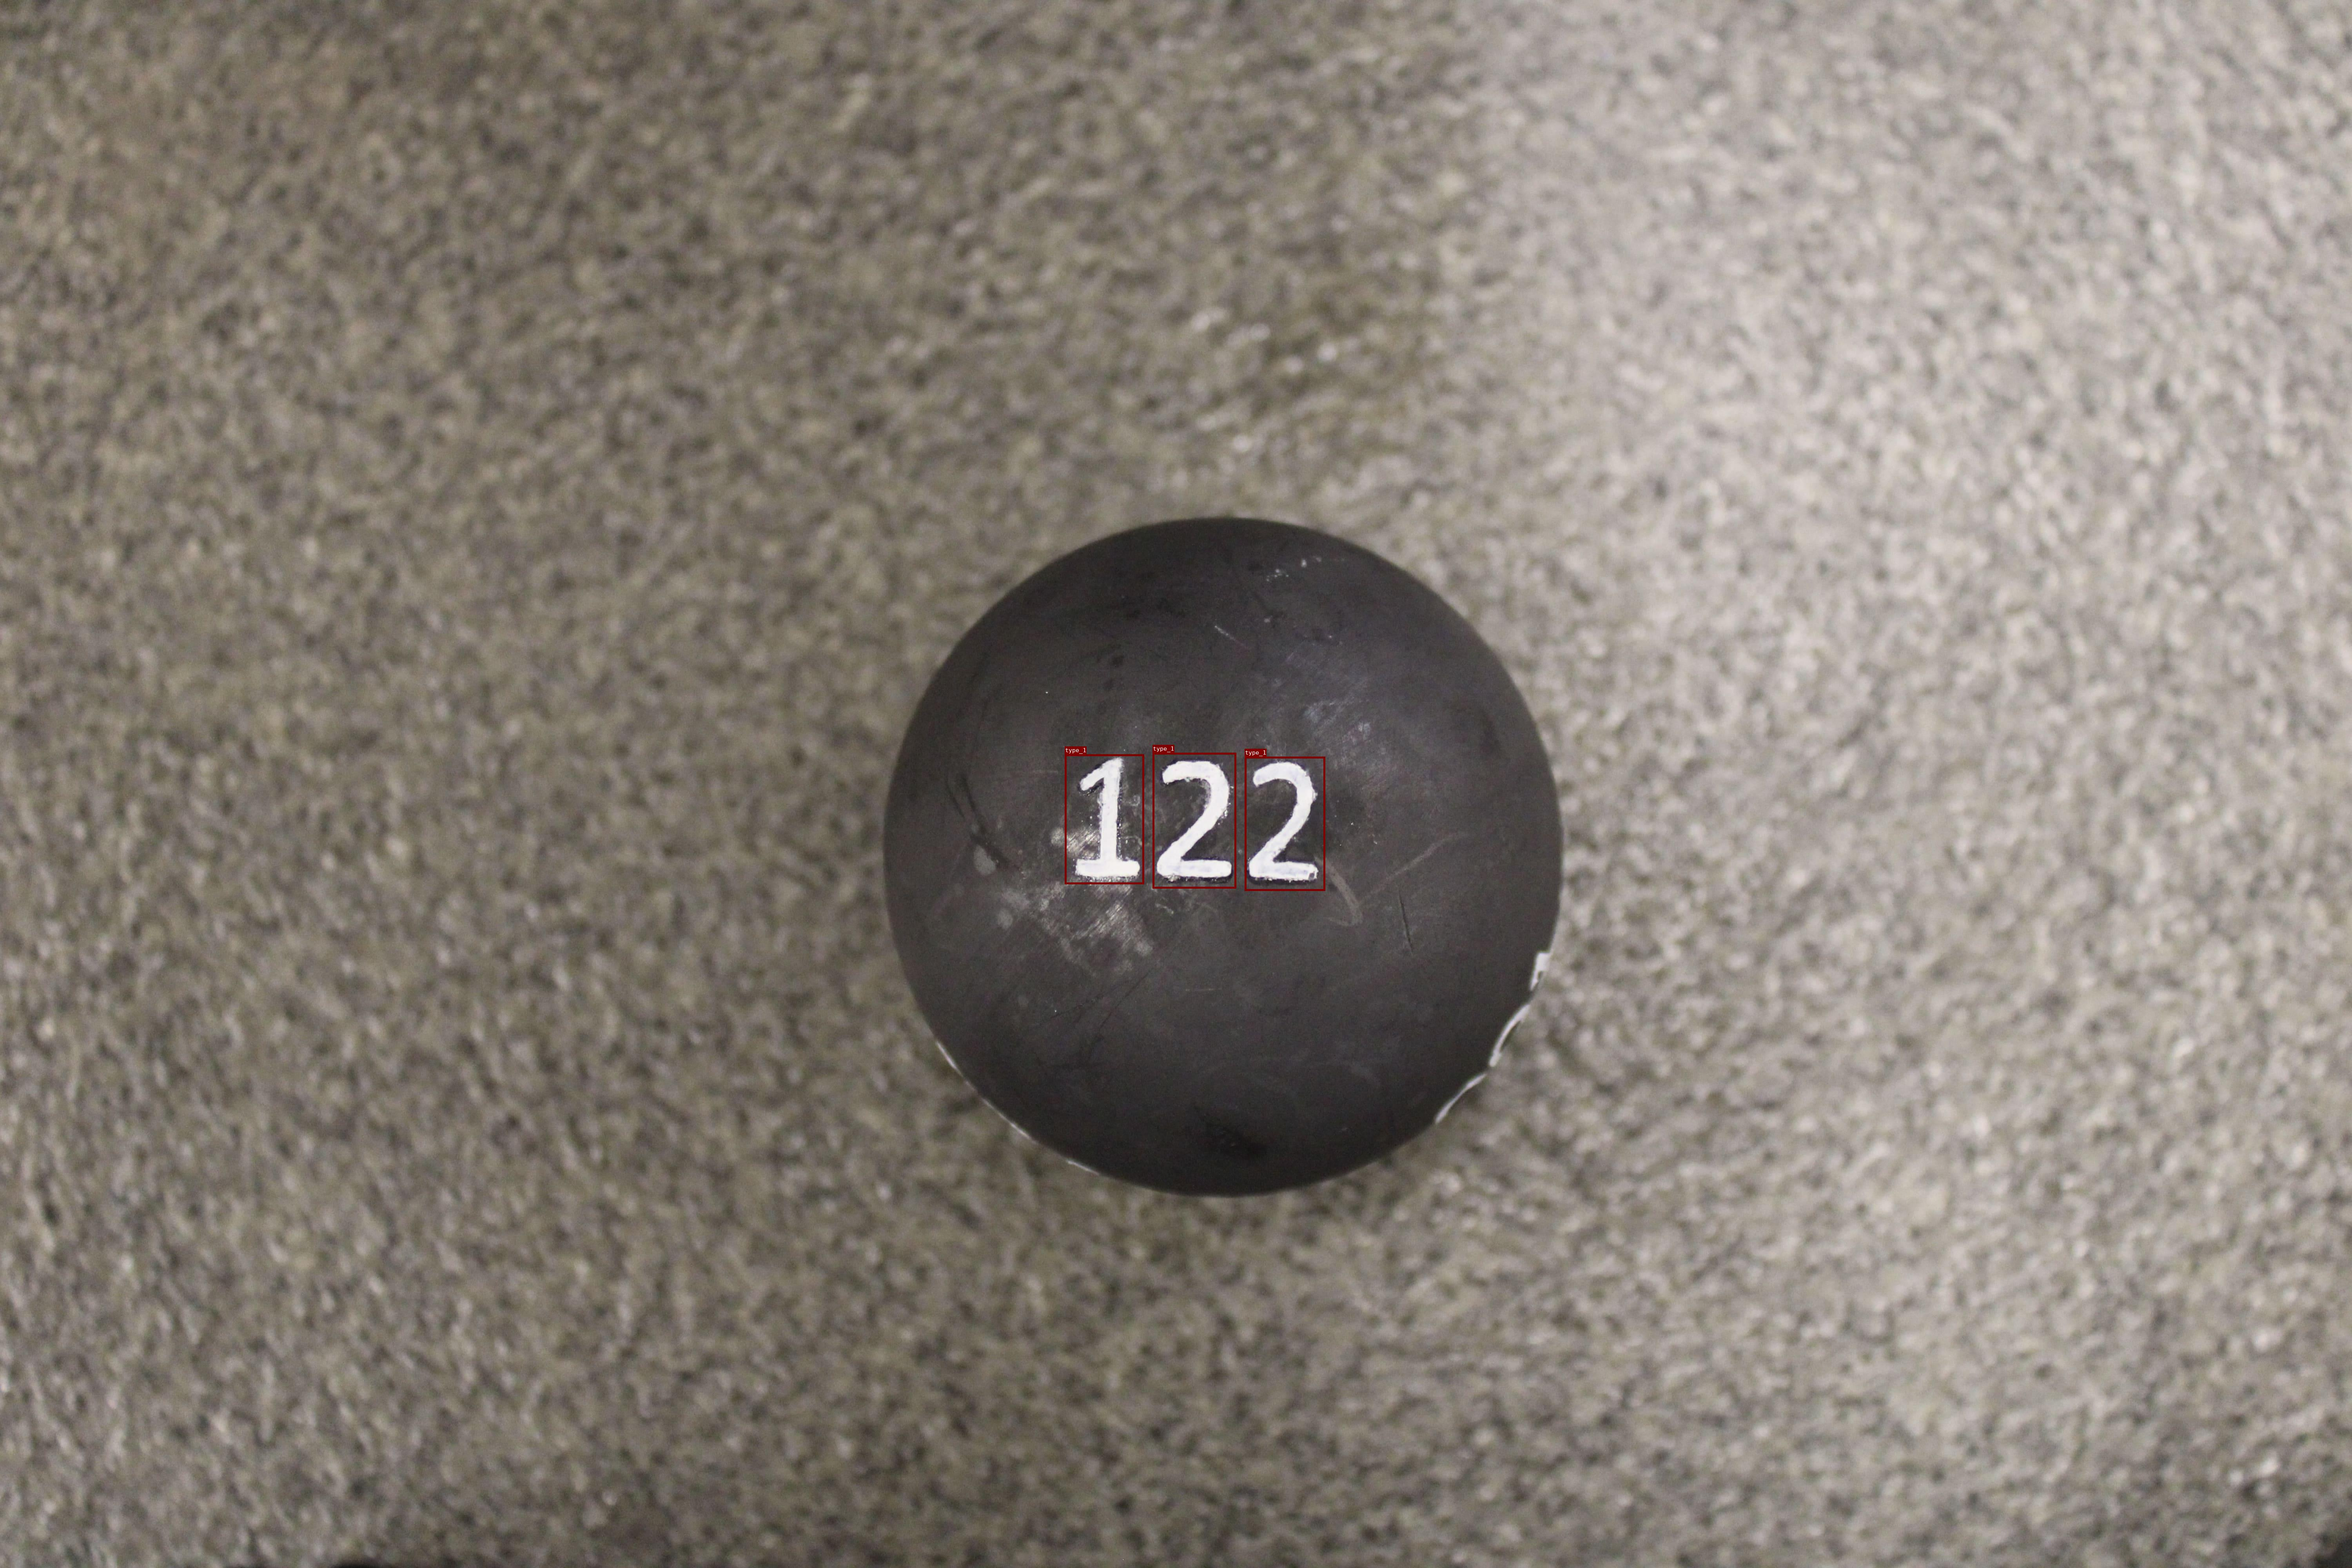type_1: (1153, 752, 1235, 889), (1244, 756, 1325, 891), (1064, 754, 1145, 884)
